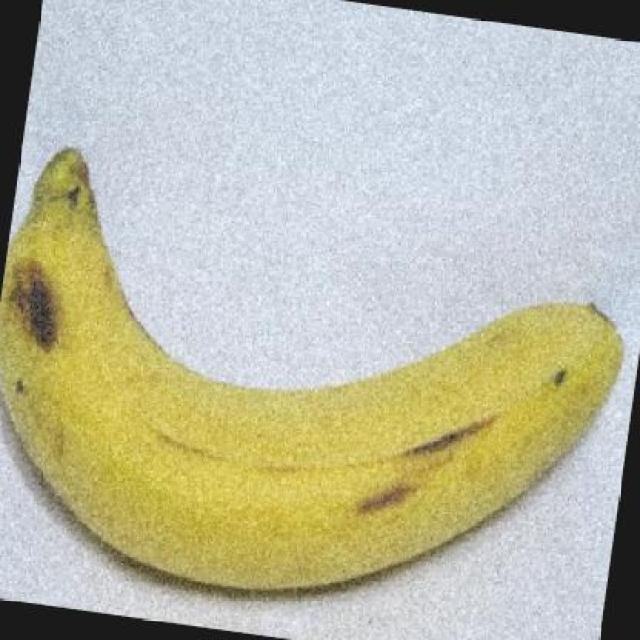ripe: (0, 136, 640, 620)
